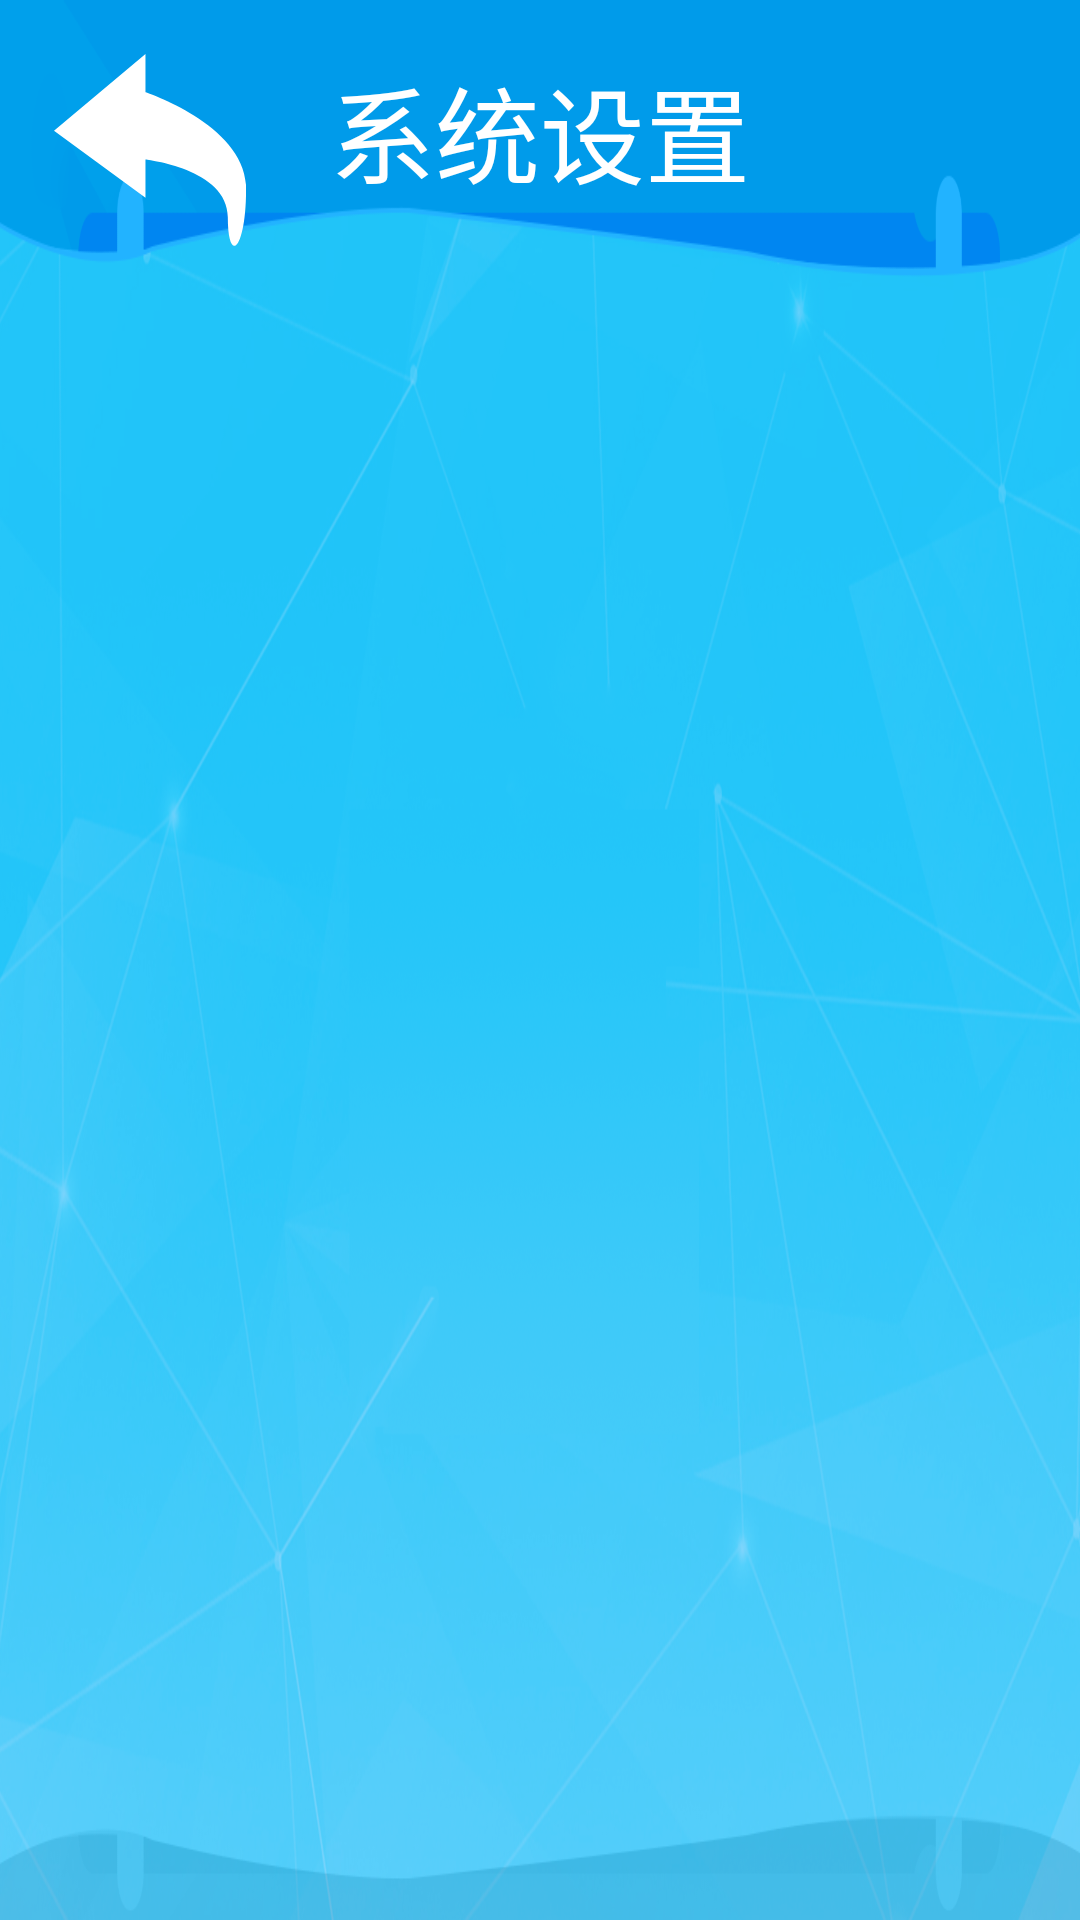

Screen size 1080×1920. Icon name, then its box in pixels as box(x1, y1, x2, y2):
back: box(54, 54, 246, 246)
